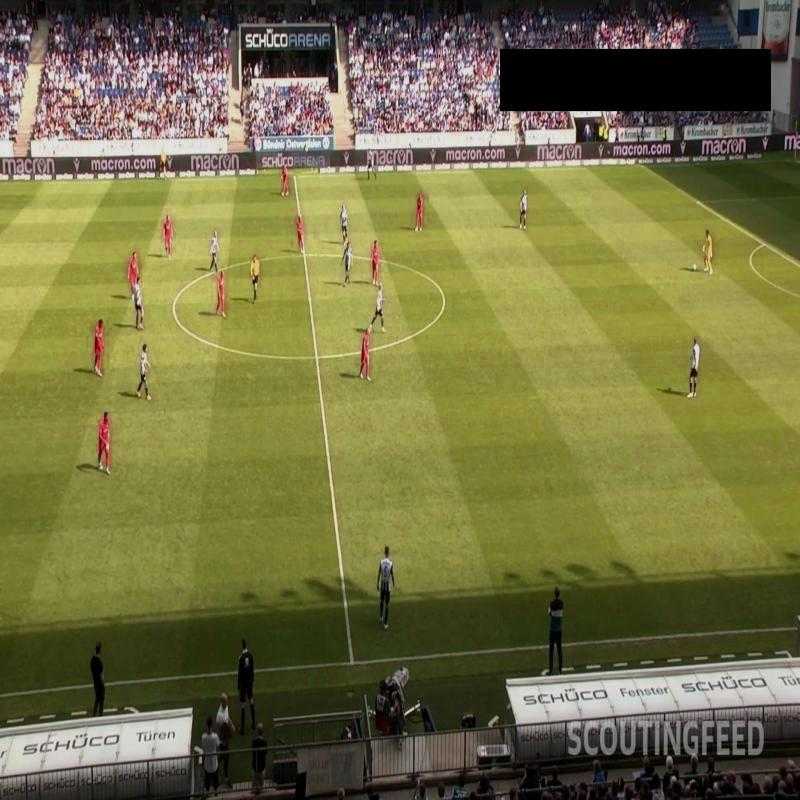1: (787, 154, 800, 168)
10: (758, 239, 772, 253)
13: (289, 169, 303, 183)
14: (297, 248, 313, 264)
15: (307, 349, 325, 367)
16: (344, 651, 360, 671)
9: (690, 196, 704, 210)
c: (435, 286, 454, 302), (168, 301, 182, 315)
